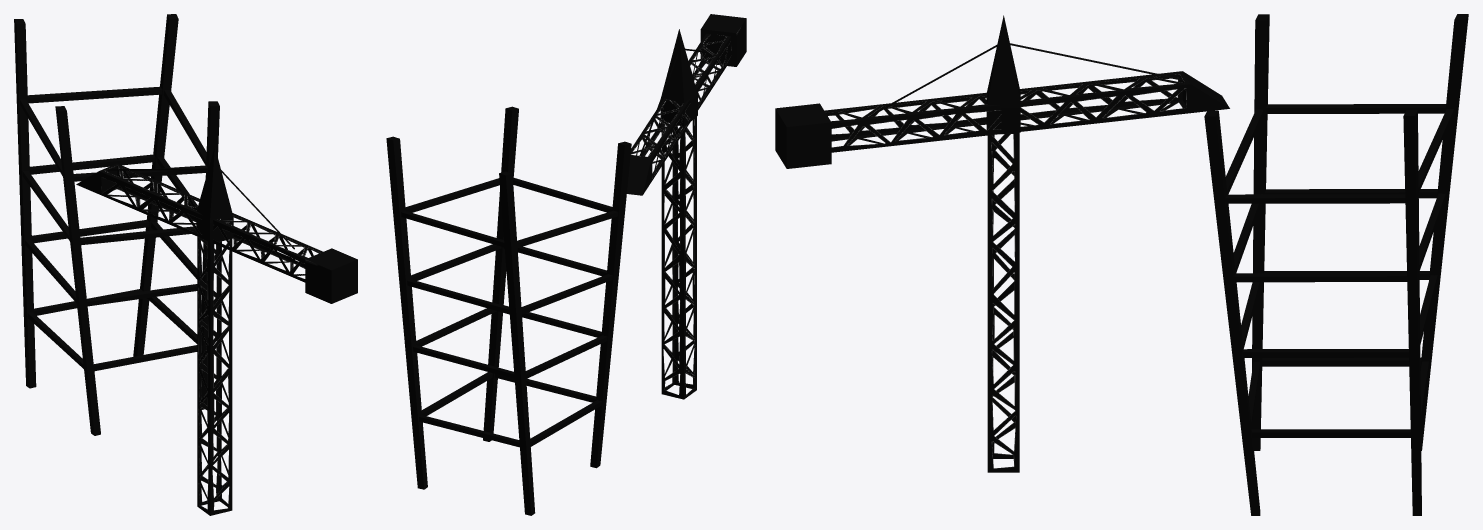
File: BuildingInProgress.fbx
3 views of the same model, side by side, from view 1: azimuth 30°, elevation 25°; view 2: azimuth 150°, elevation 25°; view 3: azimuth 270°, elevation 25° (orthographic). The views are drawn at different scales.
Parts seen in each view (by area): view 1: TODOS:polySurface8, TODOS:polySurface7; view 2: TODOS:polySurface8, TODOS:polySurface7; view 3: TODOS:polySurface8, TODOS:polySurface7.
Part boxes in pixels (left/top/right/bottom): TODOS:polySurface8: left=14, top=14, right=219, bottom=435; TODOS:polySurface7: left=76, top=146, right=357, bottom=515; TODOS:polySurface8: left=386, top=106, right=631, bottom=515; TODOS:polySurface7: left=627, top=14, right=746, bottom=399; TODOS:polySurface8: left=1204, top=14, right=1468, bottom=515; TODOS:polySurface7: left=775, top=15, right=1229, bottom=472.
Bounding box in the file's own units: 47.25 × 90.14 × 126.
